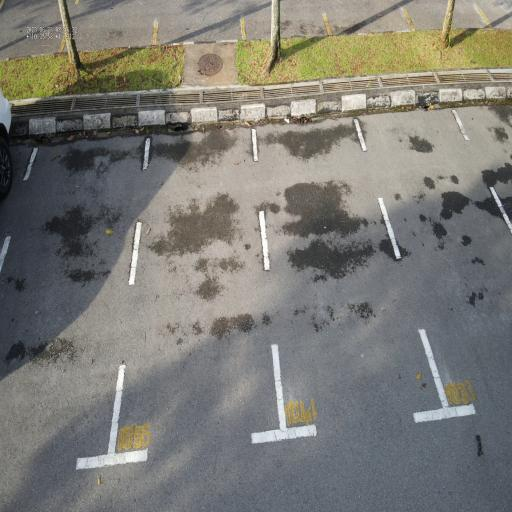Empty: (104, 108, 290, 478)
